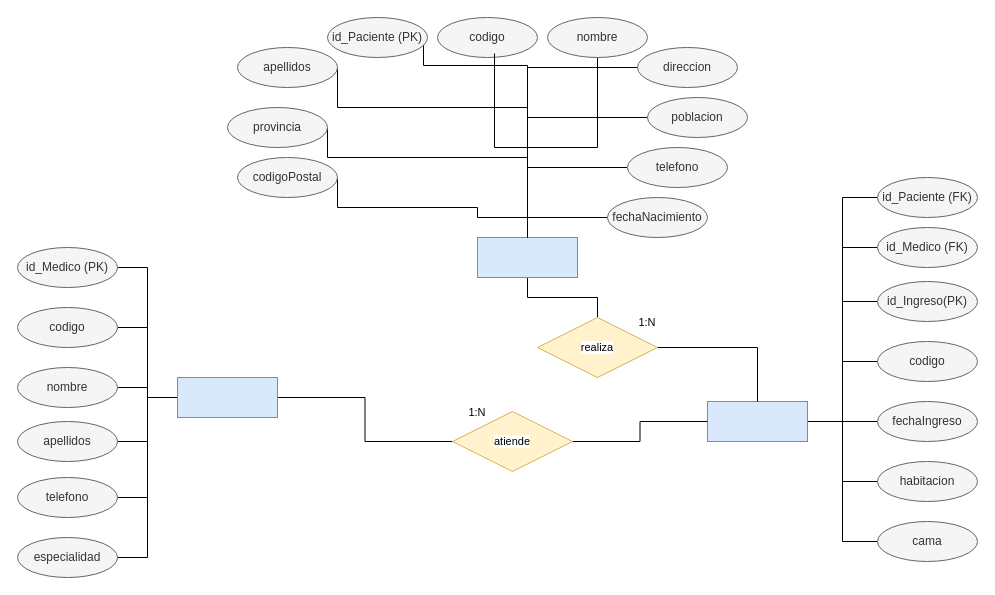
Some shapes in this 995 by 595 pixel diagram are drawn without their labels. Each missing label, with the centre of its shape:
"INGRESO" goes at point (757, 421).
"MEDICO" goes at point (227, 397).
"PACIENTE" goes at point (527, 257).
